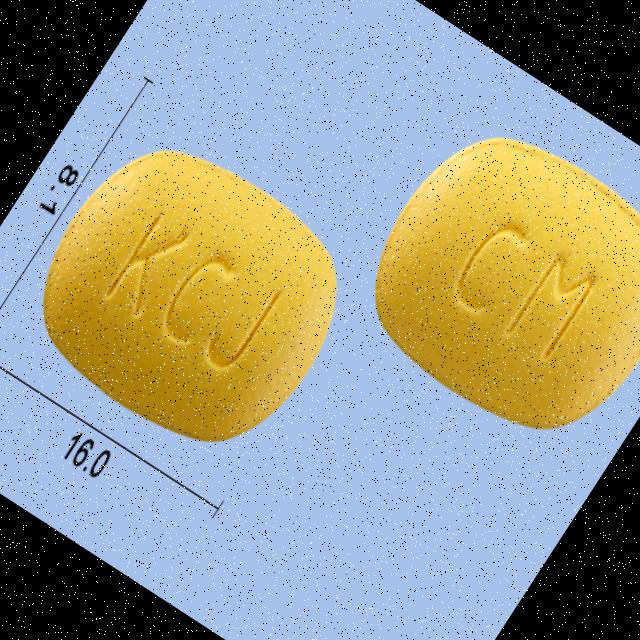Clamon Tab: (0, 100, 386, 487), (333, 99, 640, 468)
